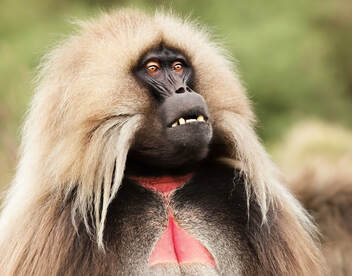Gelada: (44, 23, 281, 271)
